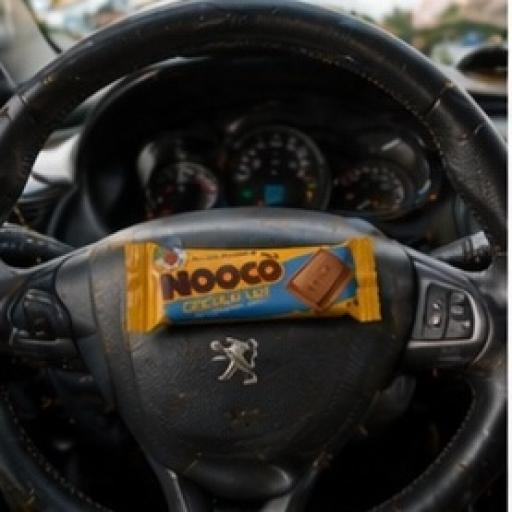nooco: (108, 220, 393, 392)
